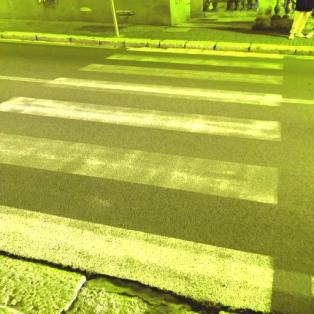Paso de Cebra: (40, 61, 290, 109)
